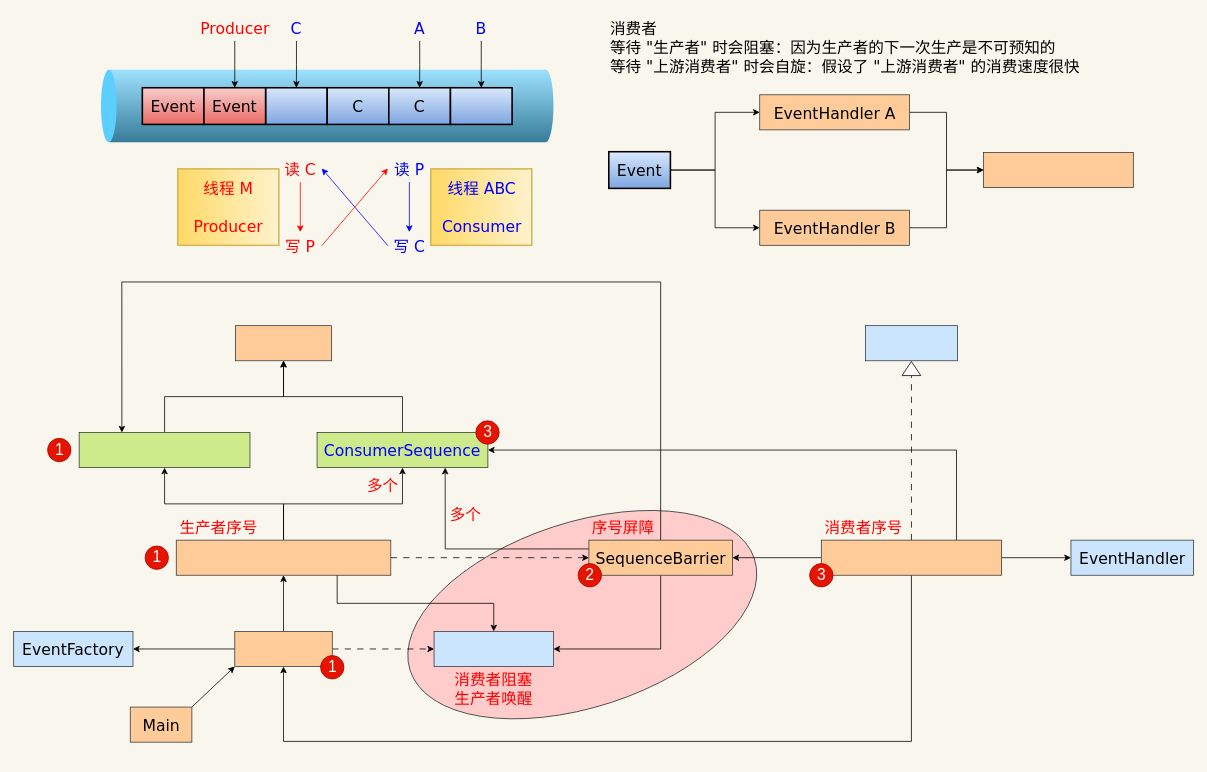
The diagram is 1207 pixels wide and 772 high, and some of its shapes have lost their labels. The shapes that lost their labels are listed below. From the top down, each one's box as (x1, y1, x2, y2) in pixels, then its label:
(449, 87, 512, 125): A -> C
(983, 152, 1133, 188): EventHandler C
(235, 325, 332, 361): Sequence
(865, 325, 957, 361): Runnable
(78, 432, 250, 468): ProducerSequence
(176, 539, 391, 575): SingleProducerSequencer
(821, 539, 1002, 575): BatchEventProcessor
(234, 631, 332, 667): RingBuffer
(433, 631, 553, 667): WaitStrategy
